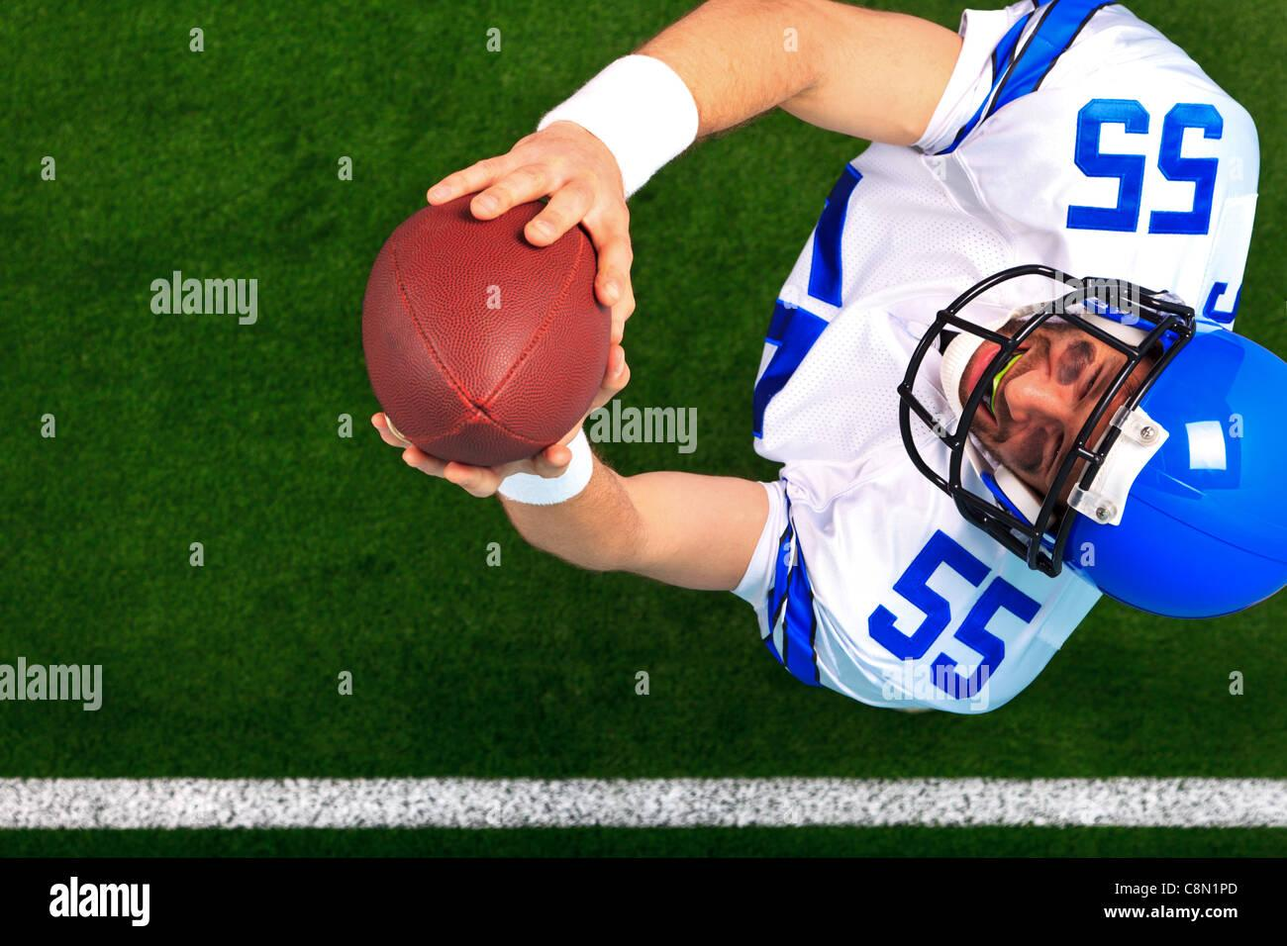americanFootball: (361, 198, 615, 461)
